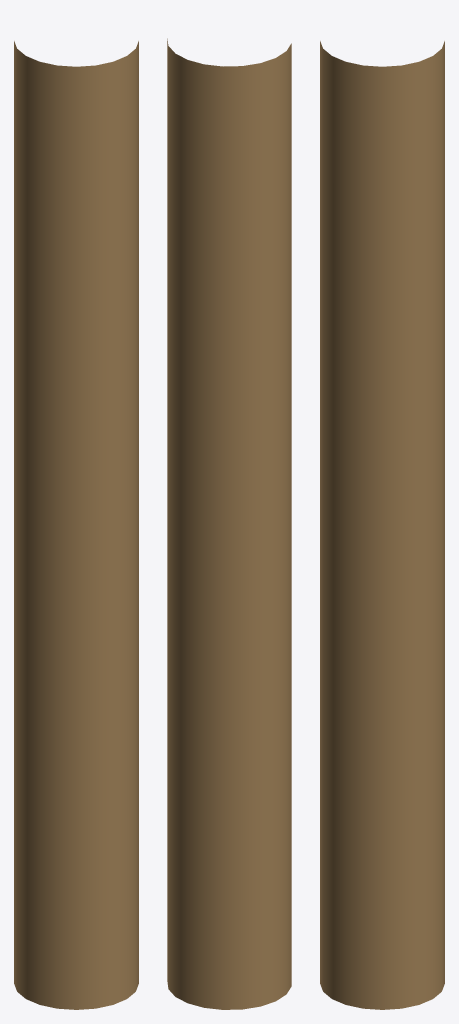
The model's file is ney.glb.
The picture shows the model from 3 angles, left to right: view 1: azimuth 90°, elevation 25°; view 2: azimuth 210°, elevation 25°; view 3: azimuth 270°, elevation 25°; orthographic projection.
Parts seen in each view (by area): view 1: ney; view 2: ney; view 3: ney.
Part boxes in pixels (<box>): ney: <box>14,41,138,1009</box>; ney: <box>167,38,291,1009</box>; ney: <box>320,41,444,1009</box>.
Size of the model in its own units: 0.12 by 1 by 0.12.
